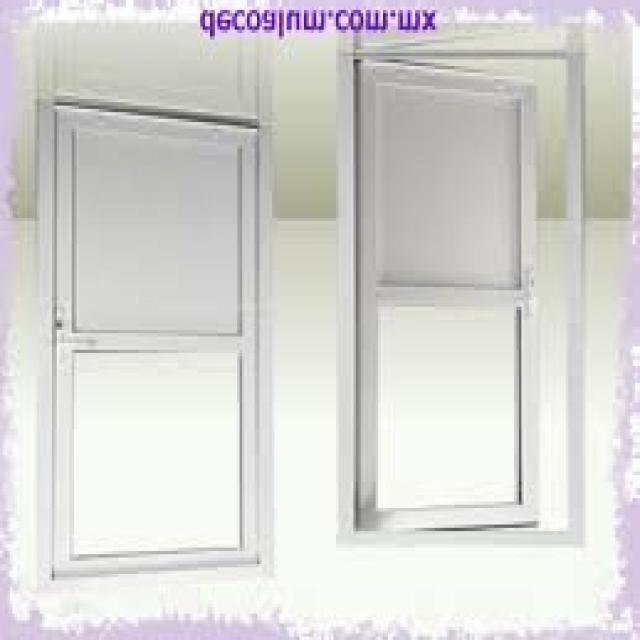door: (44, 102, 264, 587)
